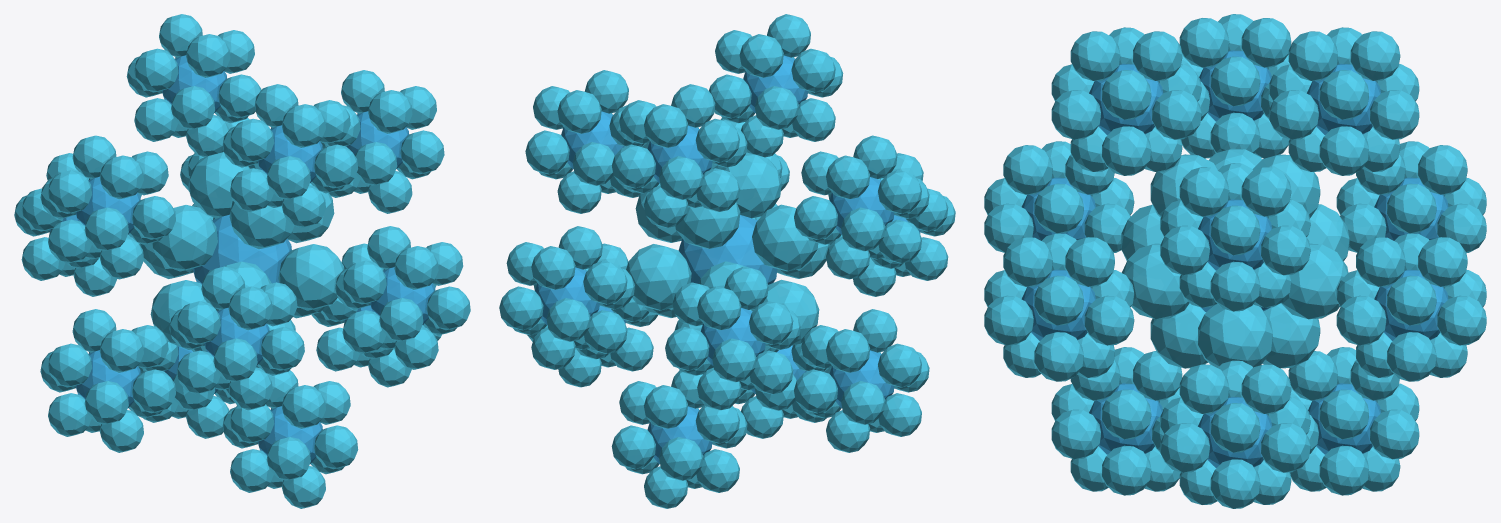
The model's file is fractalsnubdodecahedron2.glb.
3 renders of one model, left to right at view 1: azimuth 30°, elevation 25°; view 2: azimuth 150°, elevation 25°; view 3: azimuth 270°, elevation 25°, orthographic. The views are drawn at different scales.
Bounding box in the file's own units: 8.97 × 8.97 × 8.97.
